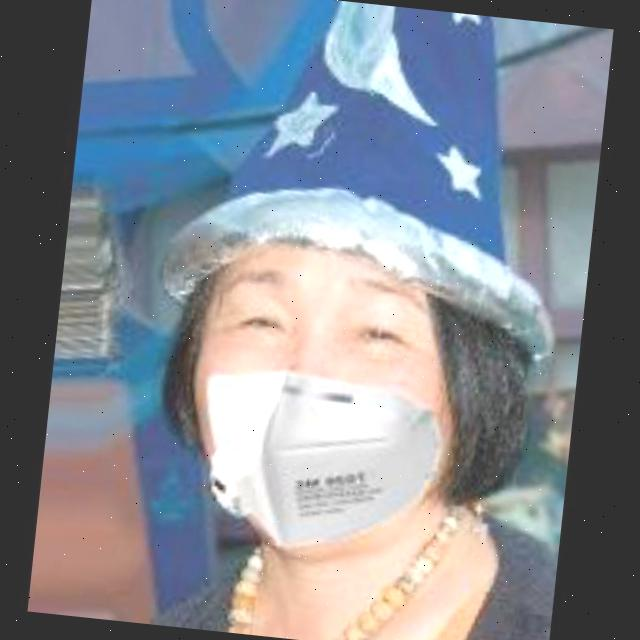suspicion: (160, 168, 505, 539)
